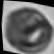correct: (0, 5, 54, 54)
